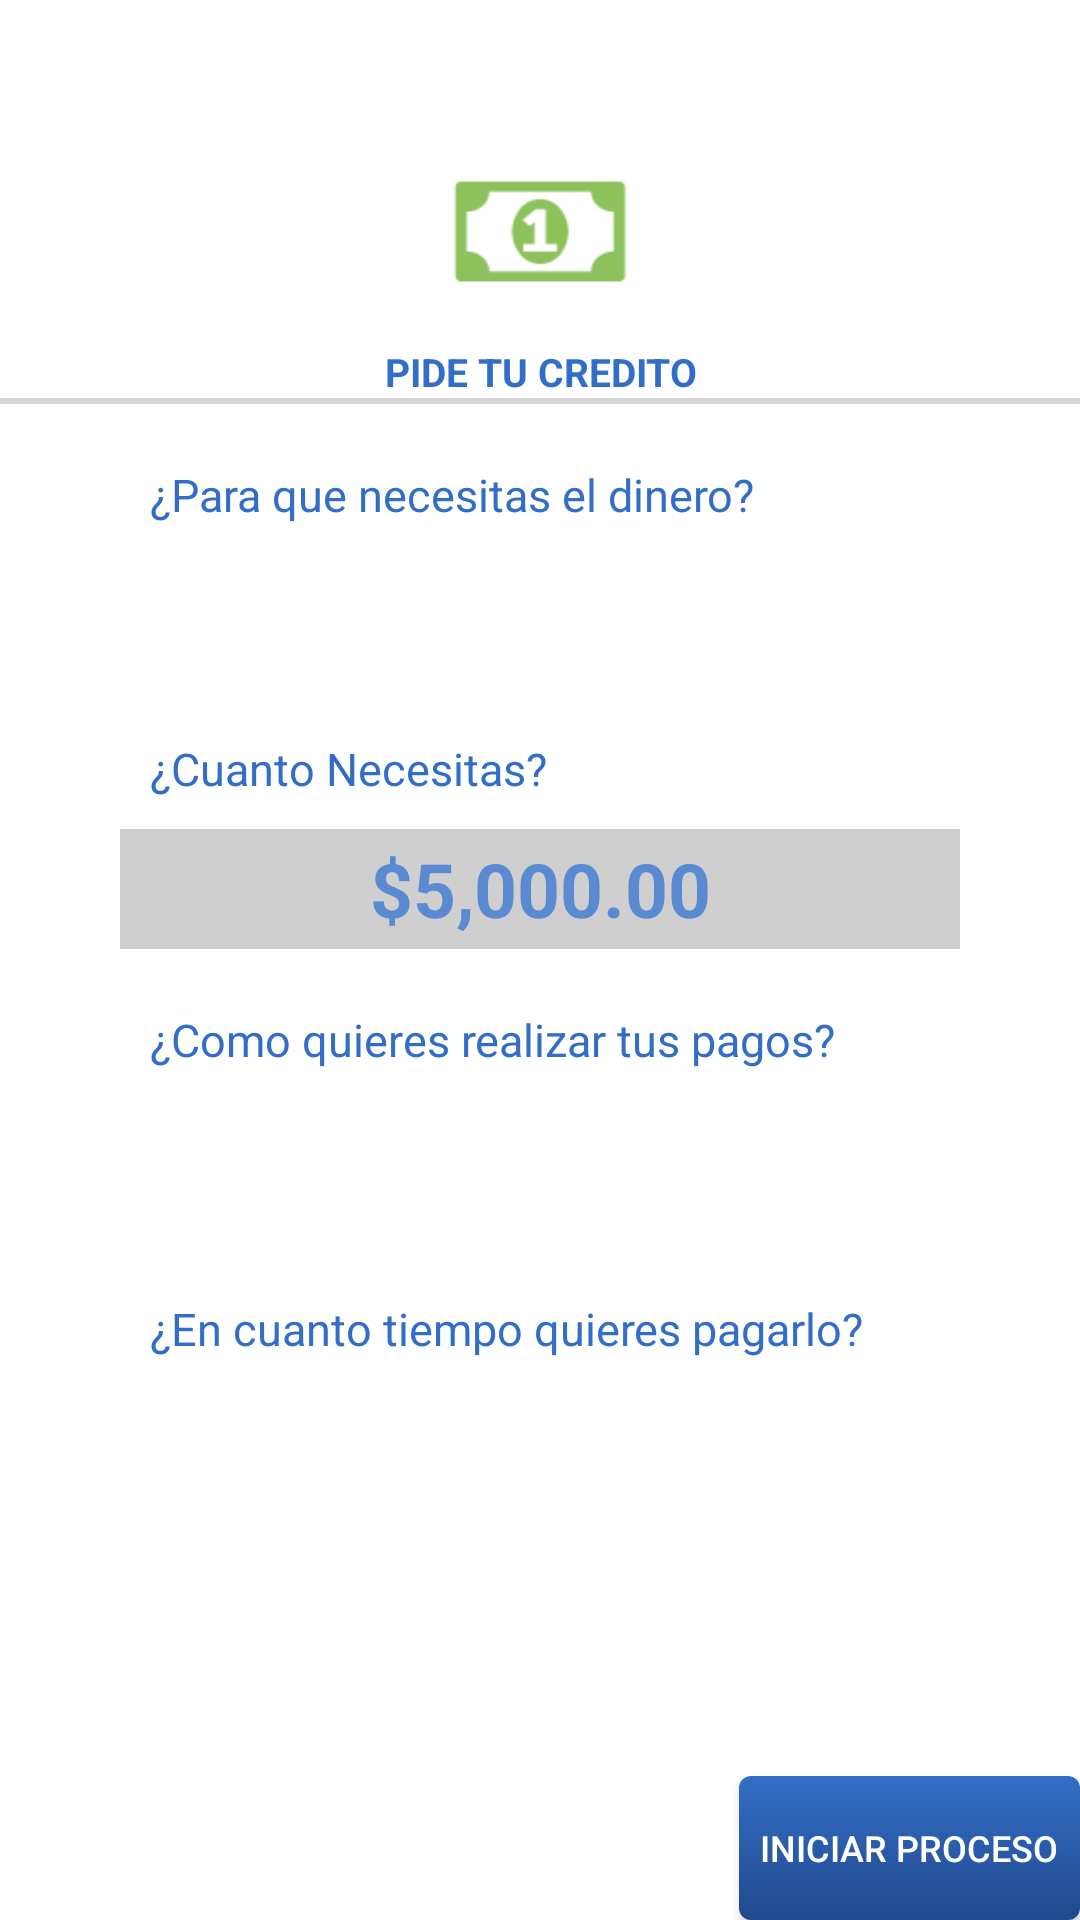

Icon click points for this 1080×1920 phone screenshot, format point (x, y):
billete: point (540, 231)
